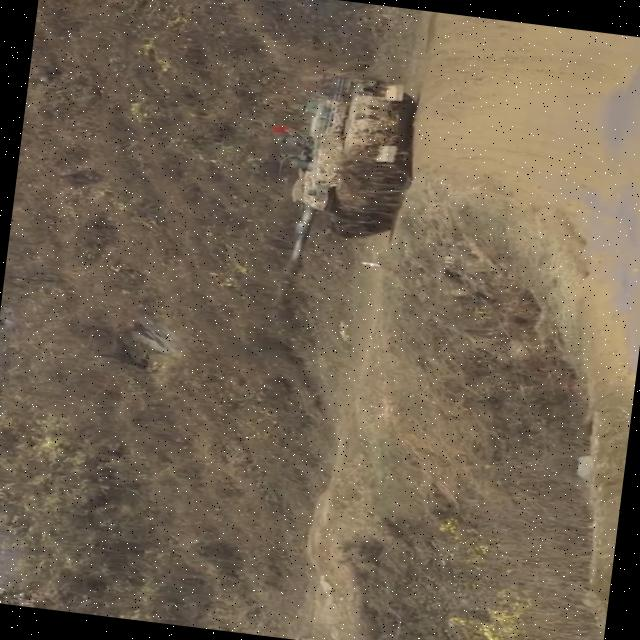korea tank: (257, 62, 426, 325)
